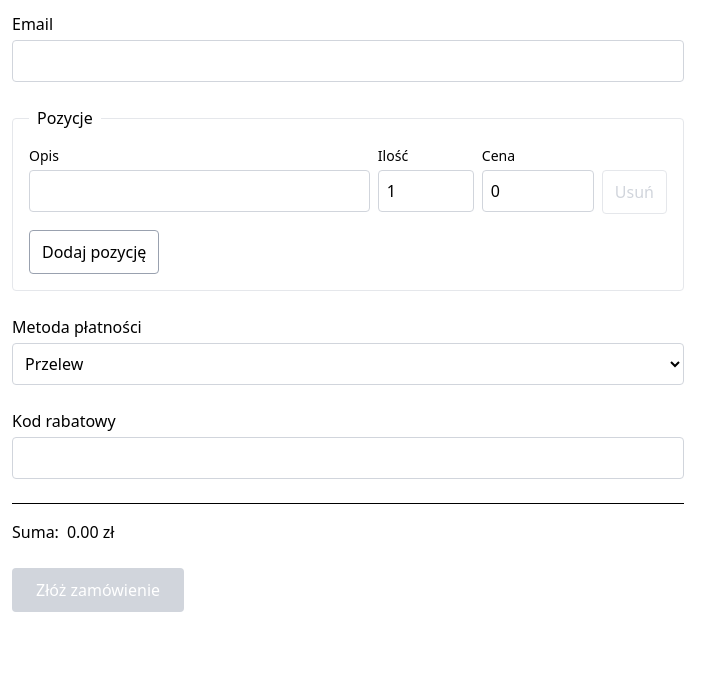
Scenario: OrderForm › blocks submit and shows errors for empty required fields
Click the button "Złóż zamówienie" at (98, 590), box [12, 568, 184, 612]
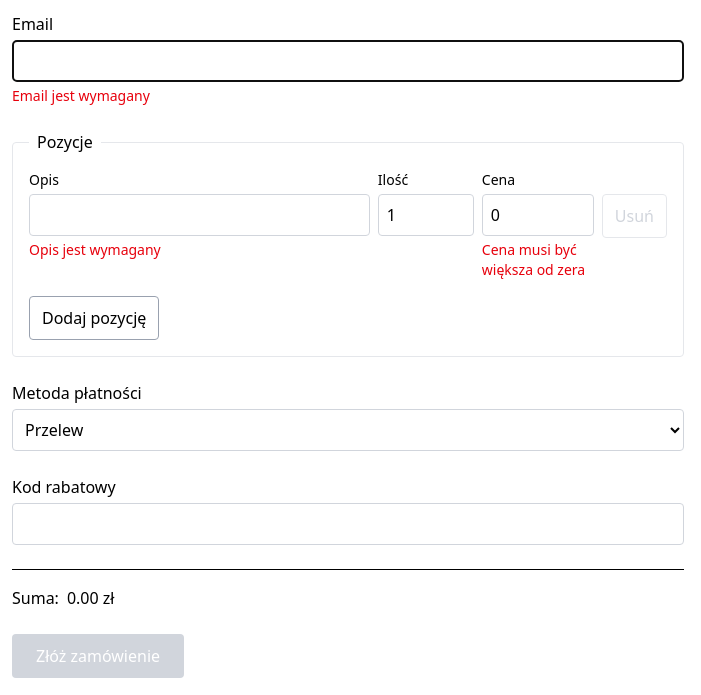
expect the text "Email jest wymagany" is shown: met, box [12, 86, 150, 105]
